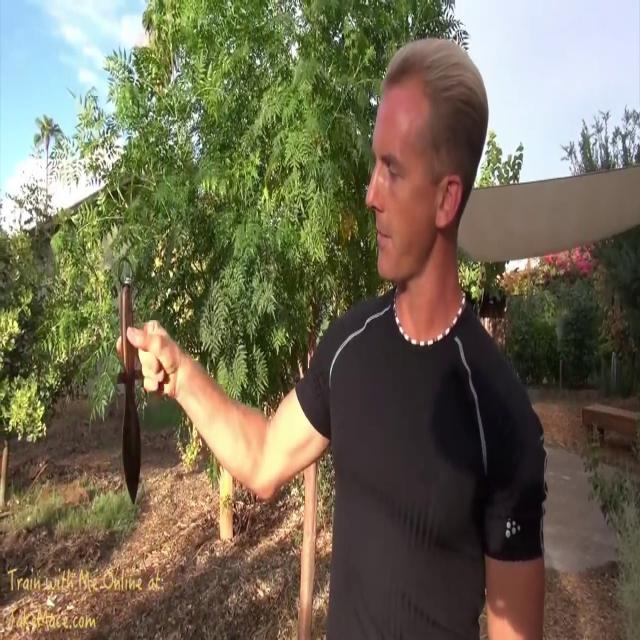knife: (107, 261, 160, 511)
